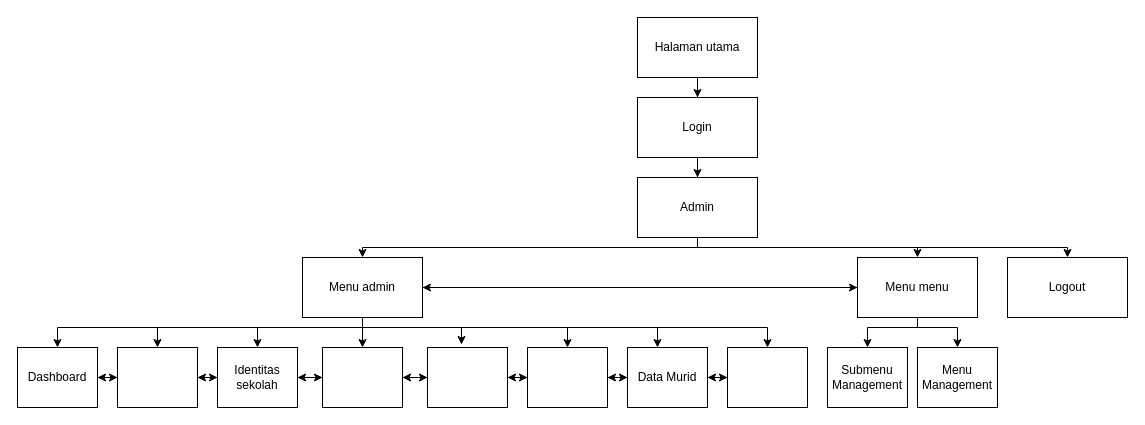
Some shapes in this 1145 by 425 pixel diagram are drawn without their labels. The shapes that lost their labels are listed below. From the top down, each one's box as (x1, y1, x2, y2) in pixels, then its label:
(116, 346, 198, 408): Role
(322, 346, 402, 408): Data Wali Kelas
(426, 346, 508, 408): Data Mata Pelajaran
(526, 346, 608, 408): Data Rapot
(726, 346, 808, 408): Data Kelas
